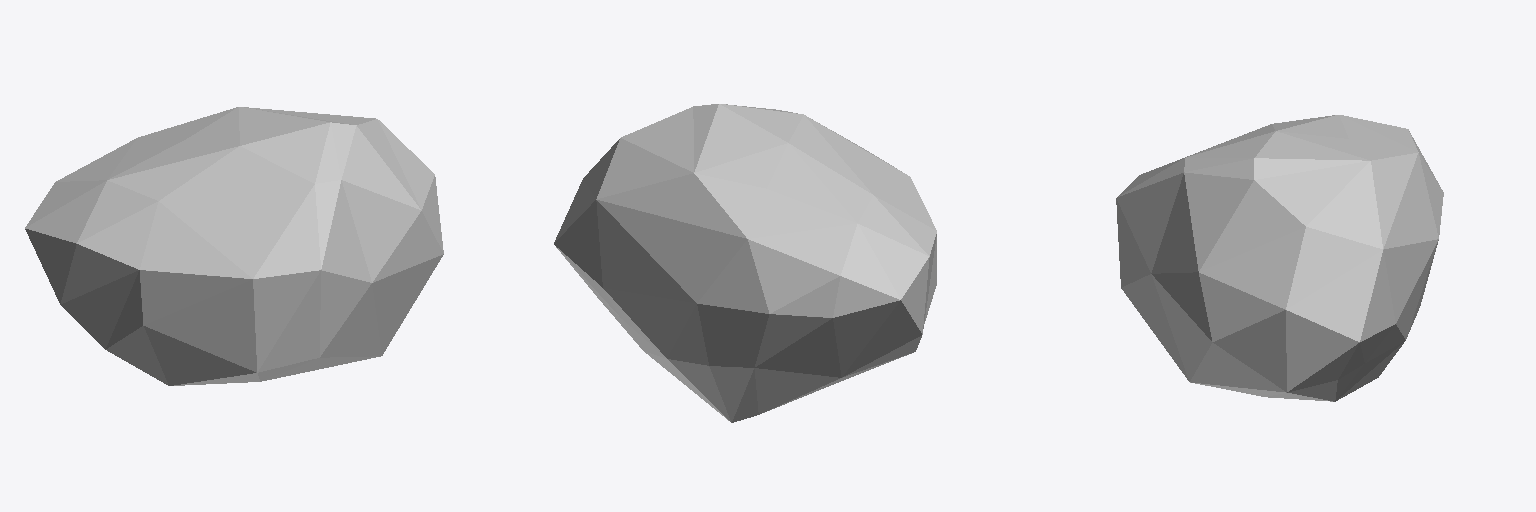
Rendered from rock1.obj.
3 renders of one model, left to right at view 1: azimuth 30°, elevation 25°; view 2: azimuth 150°, elevation 25°; view 3: azimuth 270°, elevation 25°, orthographic.
Visible parts, largest first — view 1: Boulder1; view 2: Boulder1; view 3: Boulder1.
Part boxes in pixels (x1,y1,x2,y2): Boulder1: (25,107,443,385); Boulder1: (554,104,936,422); Boulder1: (1116,115,1443,401).
Bounding box in the file's own units: 3.03 × 2.03 × 2.36.